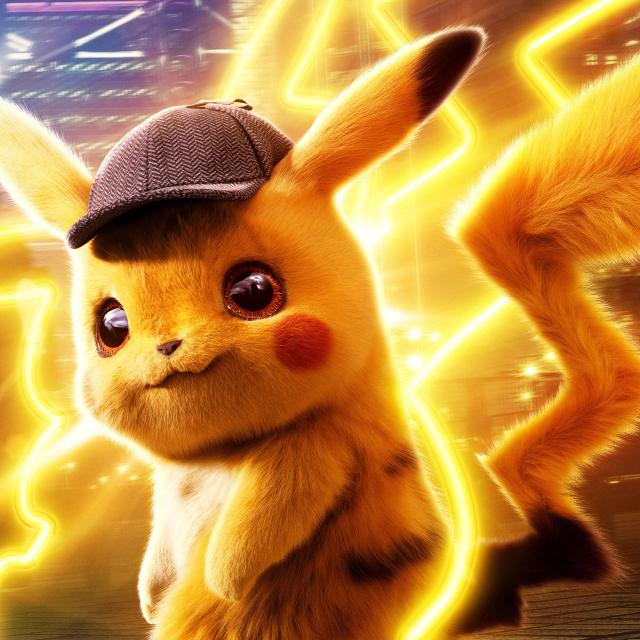pikachu: (1, 26, 485, 640)
